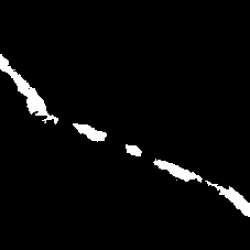crack: (3, 56, 58, 125), (208, 182, 247, 215), (155, 160, 203, 181), (73, 122, 106, 142), (124, 144, 142, 159)
